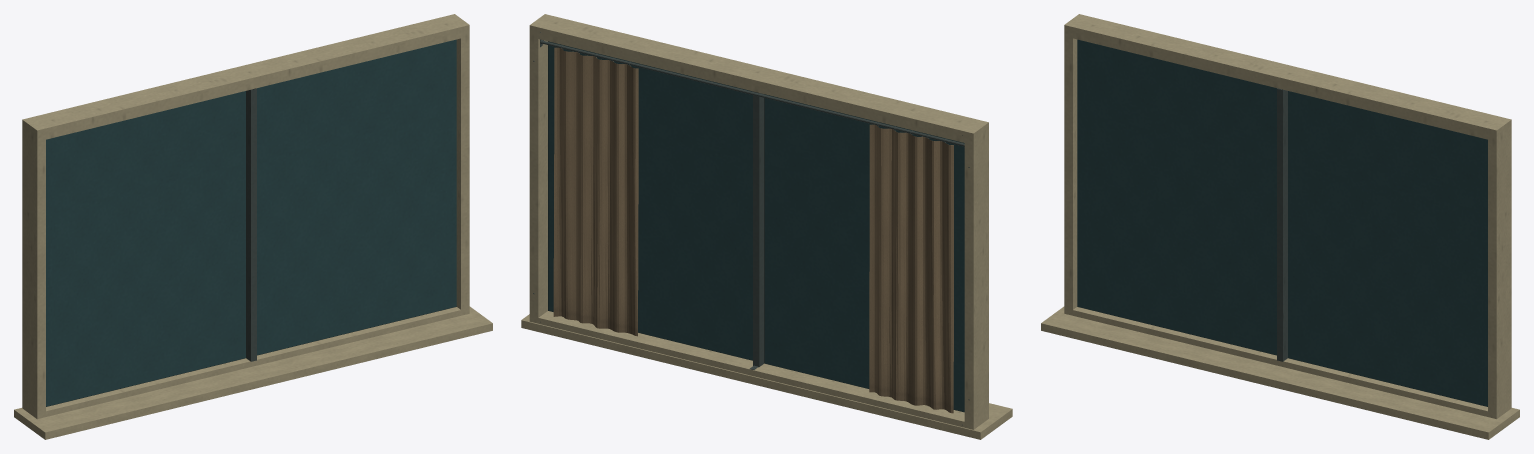
The model's file is room_window_insert_realistic_r1.glb.
3 renders of one model, left to right at view 1: azimuth 30°, elevation 25°; view 2: azimuth 150°, elevation 25°; view 3: azimuth 330°, elevation 25°, orthographic. The views are drawn at different scales.
Parts seen in each view (by area): view 1: room_window_insert__r1__room_glass_left, room_window_insert__r1__room_glass_right, room_window_insert__runtime__BCR1_painted_aluminum, room_window_insert__runtime__BCR1_painted_timber, room_window_insert__runtime__BCR1_painted_steel; view 2: room_window_insert__runtime__BCR1_cloth, room_window_insert__r1__room_glass_right, room_window_insert__r1__room_glass_left, room_window_insert__runtime__BCR1_painted_aluminum, room_window_insert__runtime__BCR1_painted_steel, room_window_insert__runtime__BCR1_painted_timber, room_window_insert__runtime__BCR1_rubber; view 3: room_window_insert__r1__room_glass_left, room_window_insert__r1__room_glass_right, room_window_insert__runtime__BCR1_painted_aluminum, room_window_insert__runtime__BCR1_painted_timber, room_window_insert__runtime__BCR1_painted_steel.
Part boxes in pixels (left/top/right/bottom): room_window_insert__r1__room_glass_left: left=46, top=91, right=245, bottom=406; room_window_insert__r1__room_glass_right: left=257, top=39, right=456, bottom=355; room_window_insert__runtime__BCR1_painted_aluminum: left=22, top=14, right=469, bottom=419; room_window_insert__runtime__BCR1_painted_timber: left=14, top=306, right=492, bottom=439; room_window_insert__runtime__BCR1_painted_steel: left=246, top=88, right=256, bottom=361; room_window_insert__runtime__BCR1_cloth: left=553, top=47, right=953, bottom=413; room_window_insert__r1__room_glass_right: left=548, top=41, right=752, bottom=360; room_window_insert__r1__room_glass_left: left=764, top=94, right=964, bottom=411; room_window_insert__runtime__BCR1_painted_aluminum: left=529, top=14, right=988, bottom=429; room_window_insert__runtime__BCR1_painted_steel: left=533, top=32, right=969, bottom=425; room_window_insert__runtime__BCR1_painted_timber: left=521, top=314, right=1012, bottom=439; room_window_insert__runtime__BCR1_rubber: left=548, top=41, right=963, bottom=412; room_window_insert__r1__room_glass_left: left=1077, top=39, right=1276, bottom=355; room_window_insert__r1__room_glass_right: left=1288, top=91, right=1487, bottom=406; room_window_insert__runtime__BCR1_painted_aluminum: left=1064, top=14, right=1511, bottom=419; room_window_insert__runtime__BCR1_painted_timber: left=1041, top=306, right=1519, bottom=439; room_window_insert__runtime__BCR1_painted_steel: left=1277, top=88, right=1287, bottom=361.
Size of the model in its own units: 2.07 by 1.31 by 0.25.
Materials: 6 (6 with a texture image).
